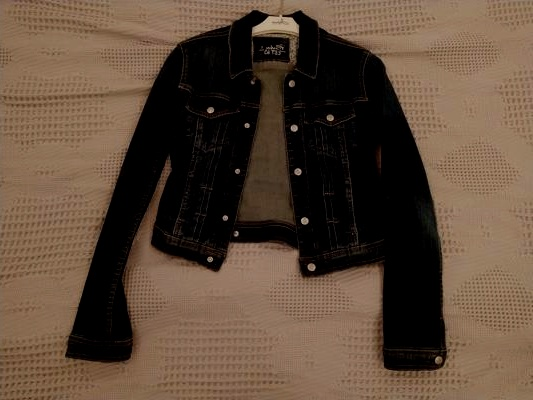Blazer: (55, 29, 451, 391)
